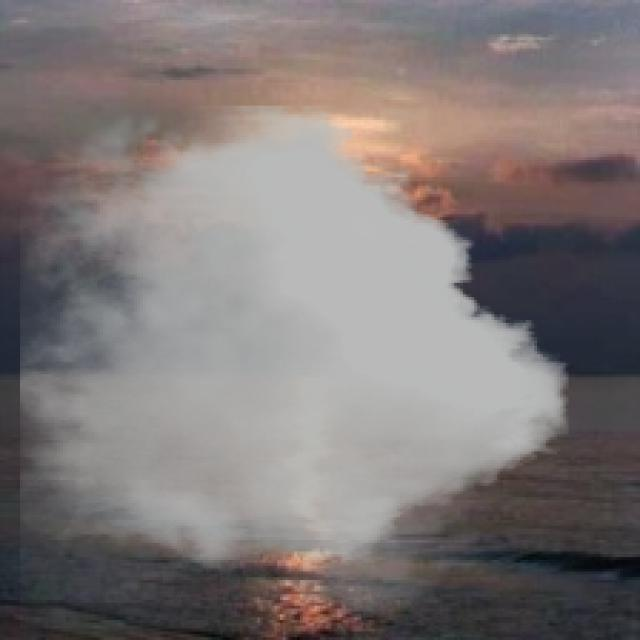smoke: (20, 97, 569, 629)
